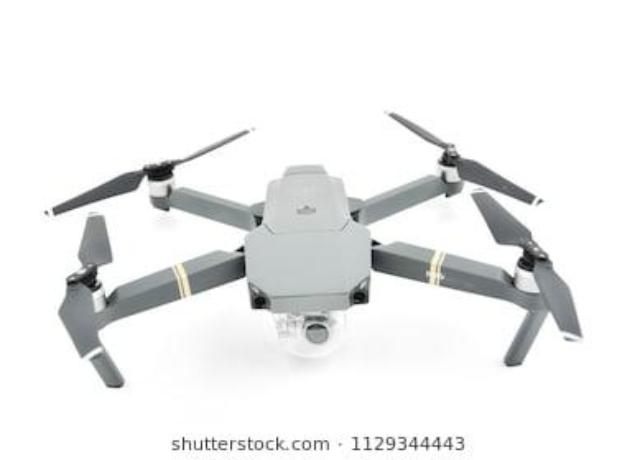drone: (41, 104, 593, 402)
